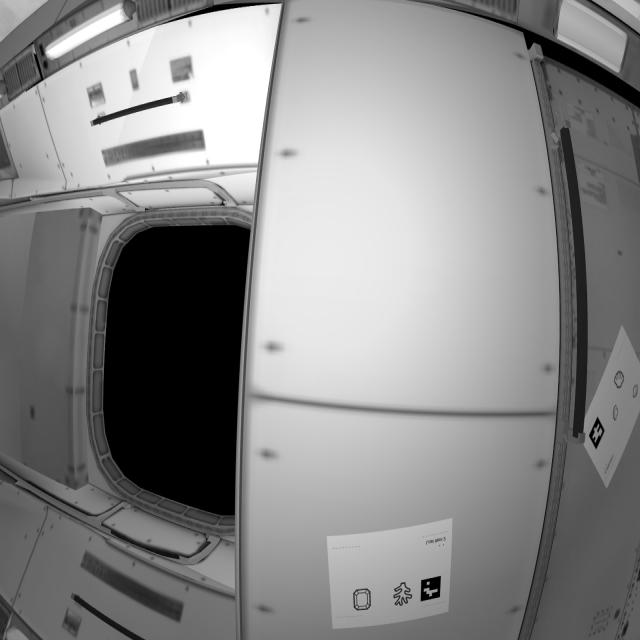coral: (392, 583, 415, 610)
emerald: (352, 587, 374, 615)
shell: (613, 370, 629, 394), (611, 401, 622, 425), (629, 384, 640, 401)
